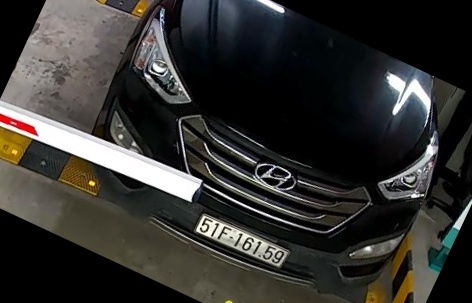plate: (193, 214, 297, 274)
